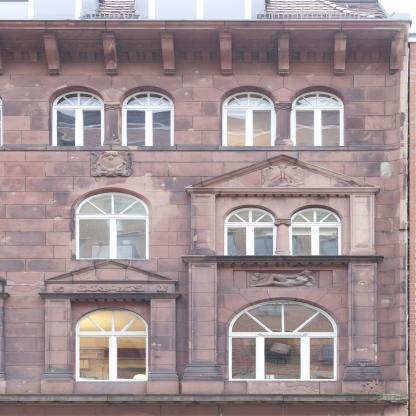Building Outline: (0, 0, 413, 416)
Cornice: (184, 154, 381, 196), (37, 260, 183, 300)
Deco: (246, 270, 319, 288), (261, 165, 305, 187), (76, 285, 145, 292), (52, 285, 66, 292), (156, 285, 168, 292)
Facade: (2, 21, 410, 416)
Floor: (0, 39, 408, 168), (0, 279, 408, 400), (0, 168, 408, 279)
Floor Slab: (0, 21, 408, 27), (0, 273, 408, 279), (0, 394, 408, 400), (0, 163, 408, 169)
Molding: (0, 42, 391, 62)
Pillar: (181, 262, 225, 394), (342, 262, 386, 394), (40, 299, 74, 394), (146, 299, 180, 394)
Roof: (12, 0, 388, 19)
Window: (229, 332, 337, 381), (226, 297, 340, 332), (75, 335, 148, 381), (75, 218, 149, 259), (71, 187, 152, 218), (49, 108, 104, 146), (220, 109, 276, 146), (75, 307, 148, 335), (122, 108, 175, 146), (291, 109, 345, 146), (288, 225, 343, 257), (223, 225, 277, 257), (291, 86, 346, 109), (220, 86, 276, 108), (49, 86, 104, 108), (120, 86, 175, 108), (288, 205, 343, 226), (223, 205, 278, 226), (90, 151, 132, 177)
